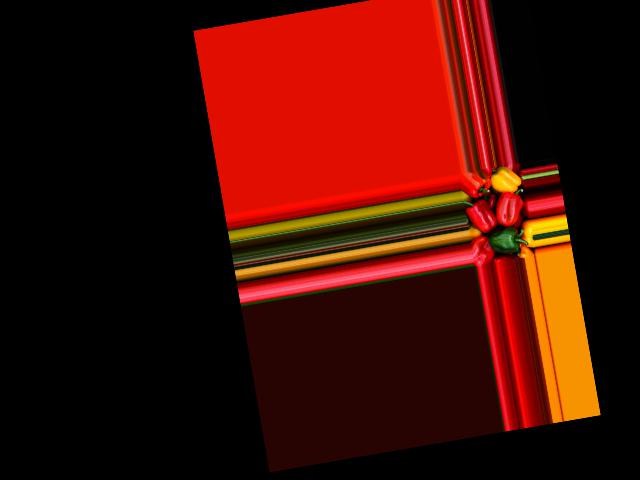bell_pepper: (486, 163, 524, 198)
